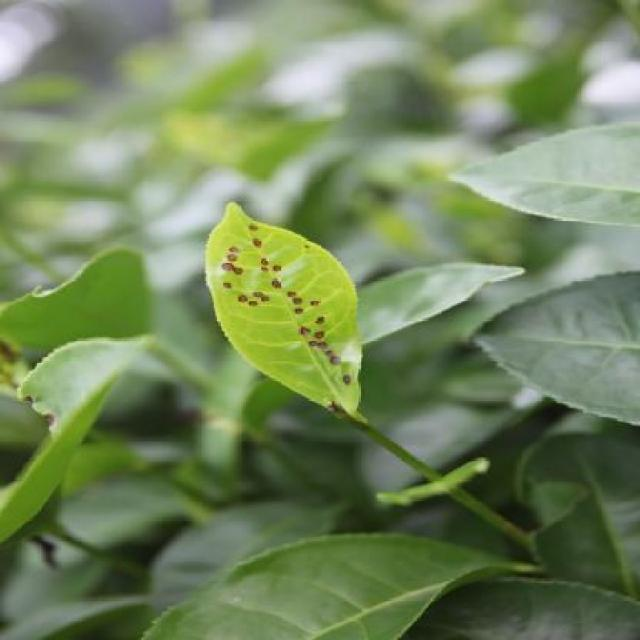Tea Mosquito bug infested leaf: (199, 203, 366, 409)
